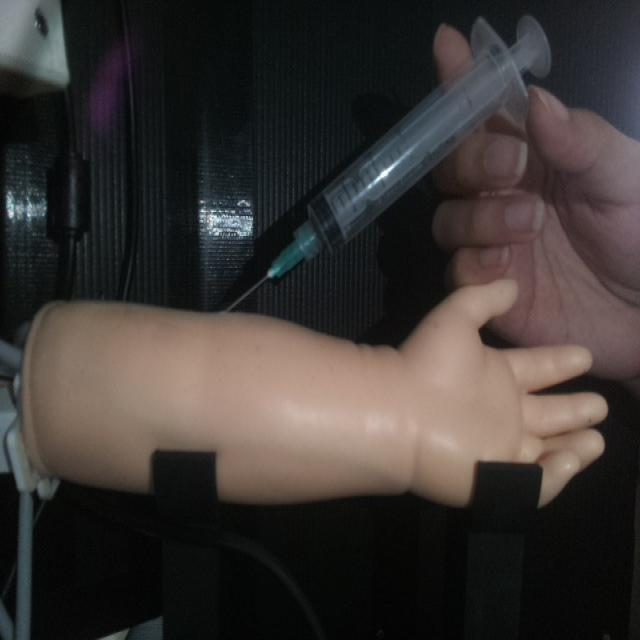Outside: (219, 6, 555, 318)
